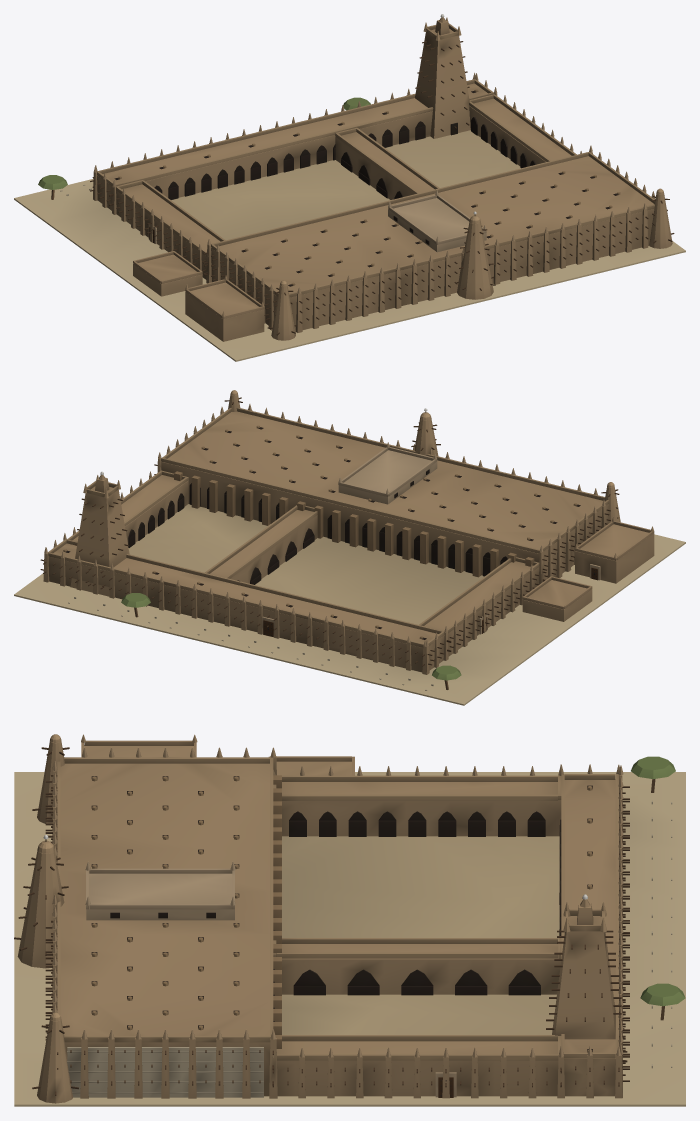
The model's file is djinguereber.glb.
The picture shows the model from 3 angles, top to bottom: view 1: azimuth 30°, elevation 25°; view 2: azimuth 150°, elevation 25°; view 3: azimuth 270°, elevation 25°; orthographic projection. The views are drawn at different scales.
Visible parts, largest first — view 1: p1_walls, p0_ground, p3_minaret, p2_roof; view 2: p1_walls, p0_ground, p2_roof, p3_minaret; view 3: p1_walls, p0_ground, p3_minaret, p2_roof.
Part boxes in pixels (x1,y1,x2,y2): p1_walls: (90,72,667,341); p0_ground: (14,97,685,361); p3_minaret: (267,14,674,340); p2_roof: (114,89,620,286); p1_walls: (40,404,654,674); p0_ground: (14,504,685,705); p2_roof: (63,425,580,639); p3_minaret: (70,390,620,596); p1_walls: (45,734,629,1098); p0_ground: (14,756,685,1106); p3_minaret: (14,734,627,1103); p2_roof: (85,775,592,1052).
Size of the model in its own units: 82.33 by 19.78 by 70.04.
